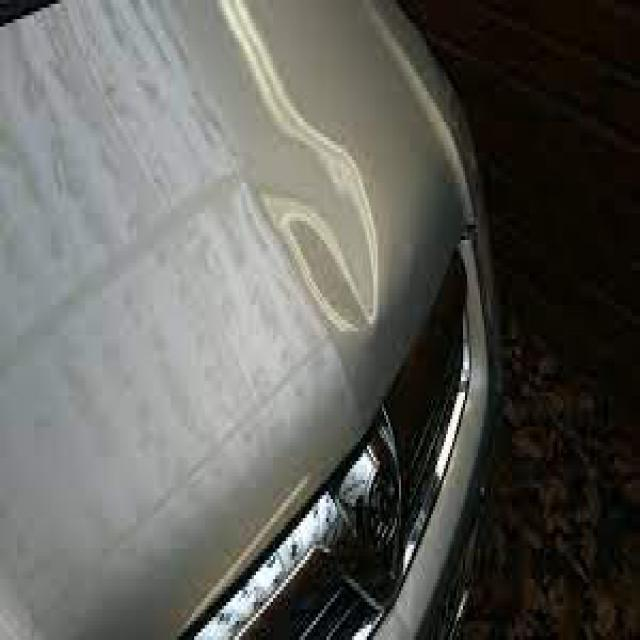bonnet-dent: (0, 0, 429, 488)
